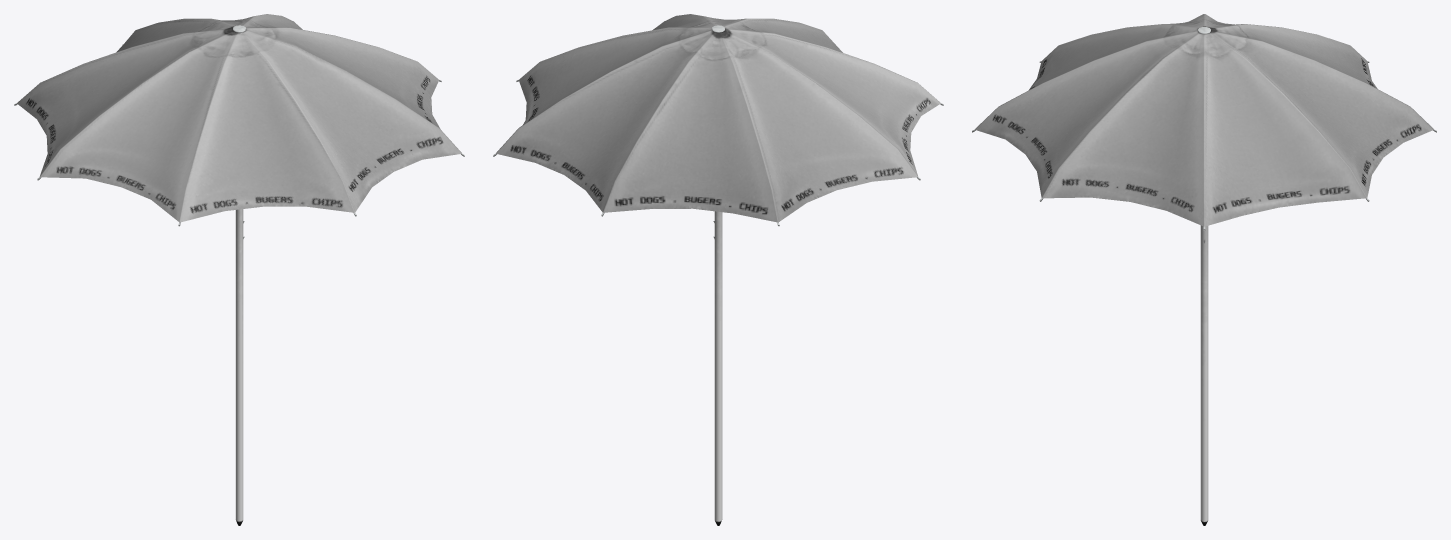
File: Parasol8.fbx
The picture shows the model from 3 angles, left to right: view 1: azimuth 30°, elevation 25°; view 2: azimuth 150°, elevation 25°; view 3: azimuth 270°, elevation 25°; orthographic projection.
Parts seen in each view (by area): view 1: Parasol8_LOD0; view 2: Parasol8_LOD0; view 3: Parasol8_LOD0.
Part boxes in pixels (<box>): Parasol8_LOD0: <box>14,14,464,525</box>; Parasol8_LOD0: <box>493,14,943,525</box>; Parasol8_LOD0: <box>972,14,1436,525</box>.
Size of what is drawn, in the model's own units: 203 by 239 by 203.
